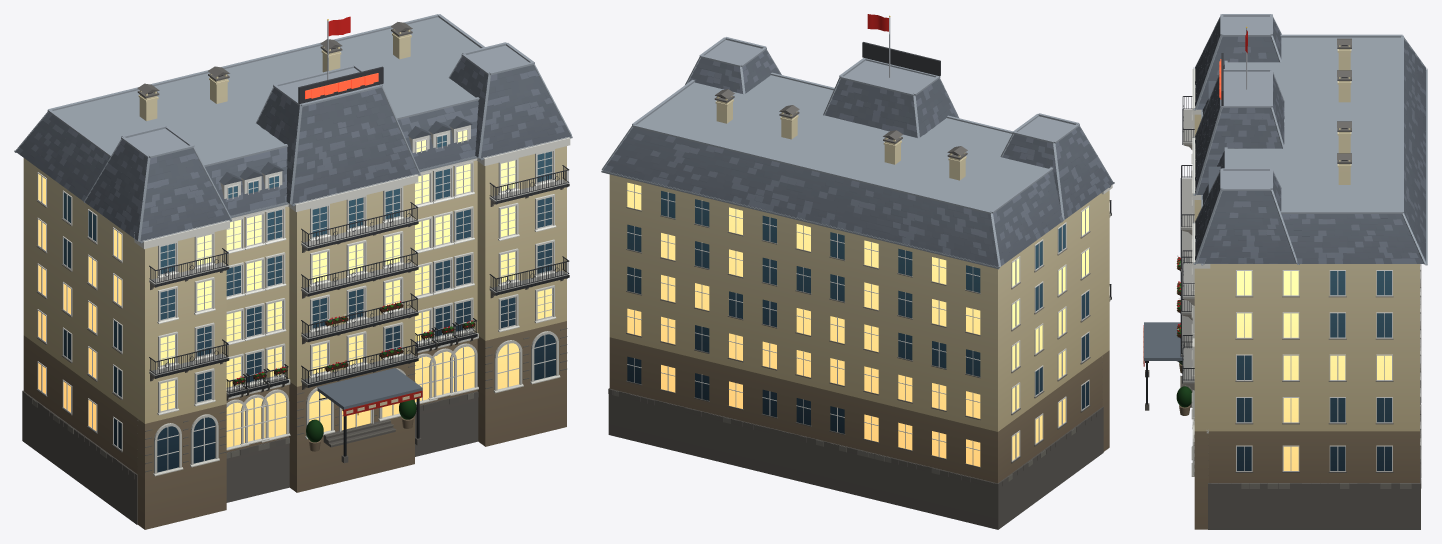
The model's file is Hotel_Grand.fbx.
The picture shows the model from 3 angles, left to right: view 1: azimuth 30°, elevation 25°; view 2: azimuth 150°, elevation 25°; view 3: azimuth 270°, elevation 25°; orthographic projection. The views are drawn at different scales.
Parts seen in each view (by area): view 1: Hotel_Grand_LOD0; view 2: Hotel_Grand_LOD0; view 3: Hotel_Grand_LOD0.
Boxes of the visible parts, x1,y1,x2,y2 form: Hotel_Grand_LOD0: [14, 14, 572, 529]; Hotel_Grand_LOD0: [601, 14, 1114, 529]; Hotel_Grand_LOD0: [1143, 14, 1427, 529].
Size of what is drawn, in the model's own units: 30.88 by 29.82 by 18.86.
Materials: 1 (1 with a texture image).
